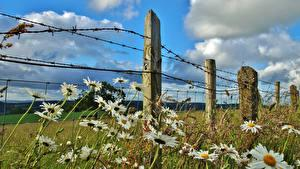chamomile: (253, 150, 286, 164), (194, 150, 215, 160), (243, 121, 258, 131)
